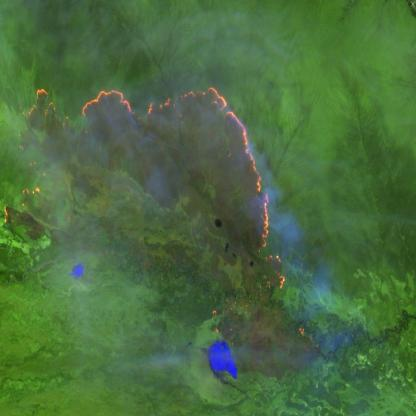fire: (0, 84, 287, 294)
